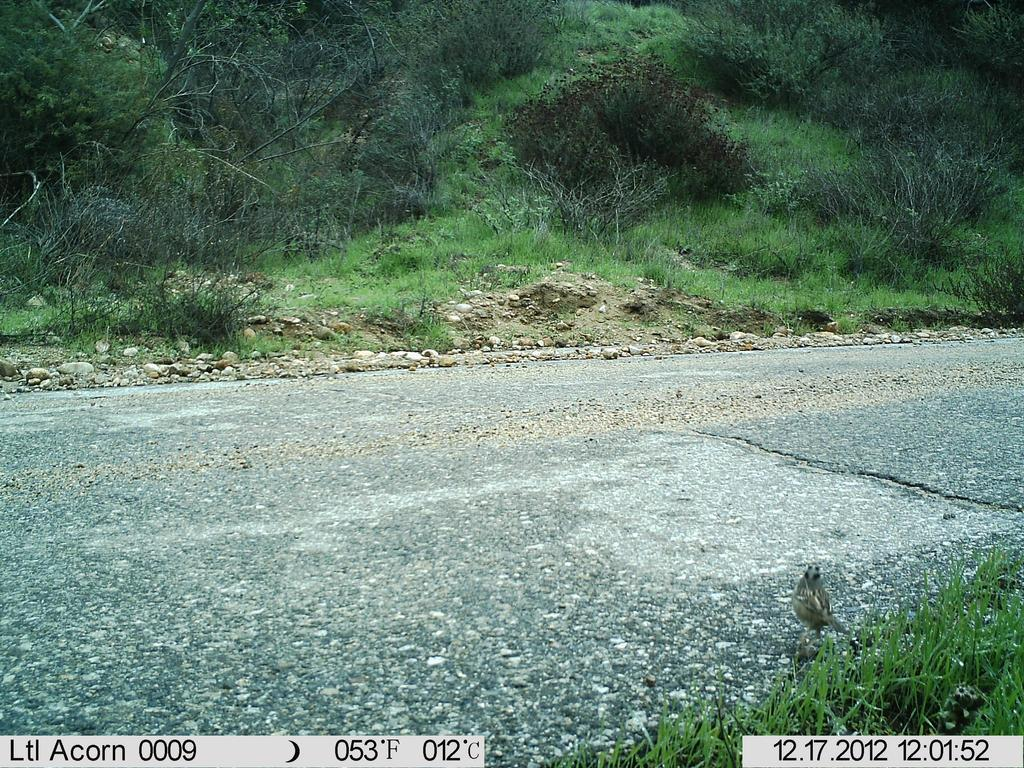bird: (790, 560, 853, 641)
